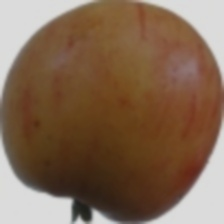apple: (53, 31, 198, 182)
